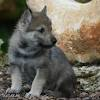Lobo: (2, 6, 69, 93)
